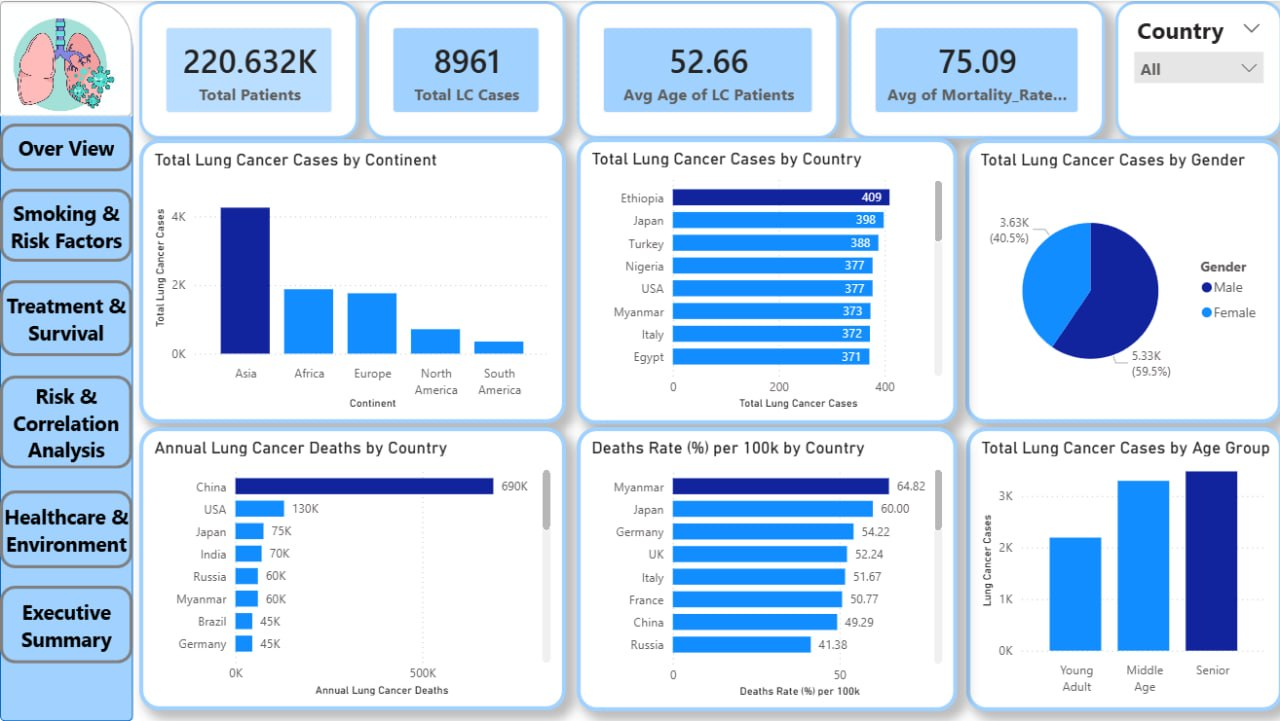

The dashboard page shown, as its layout file describes it:
{"tool":"powerbi","page":{"name":"Over View","canvas":[1280,720],"ordinal":0},"visuals":[{"type":"cardVisual","fields":{"Data":["CountNonNull(lung_cancer_Dataset.ID)"]},"box":[139,0,219,138],"z":0},{"type":"cardVisual","fields":{"Data":["CountNonNull(lung_cancer_Dataset.Lung_Cancer_Diagnosis)"]},"box":[366,0,199,138],"z":1000},{"type":"cardVisual","fields":{"Data":["Avg(lung_cancer_Dataset.Age)"]},"box":[576,0,262,138],"z":2000},{"type":"cardVisual","fields":{"Data":["Avg(lung_cancer_Dataset.Mortality_Rate)"]},"box":[847,0,256,138],"z":3000},{"type":"slicer","fields":{"Values":["lung_cancer_Dataset.Country"]},"box":[1113.3,0,166.7,137.8],"z":4000},{"type":"shape","box":[0,0,132.9,720],"z":5000},{"type":"actionButton","title":"Lung Cancer Dashboard","box":[0,0,131.8,115.5],"z":6000},{"type":"columnChart","fields":{"Y":["Sum(lung_cancer_Dataset.Total Lung Cancer Cases)"],"Category":["lung_cancer_Dataset.Continent"]},"box":[139.4,137.8,425.6,284.4],"z":7000},{"type":"clusteredBarChart","title":"Annual Lung Cancer Deaths by Country","fields":{"Category":["lung_cancer_Dataset.Country"],"Y":["Max(lung_cancer_Dataset.Annual_Lung_Cancer_Deaths)"]},"box":[138.9,425.6,425.6,283.3],"z":8000},{"type":"pieChart","fields":{"Y":["Sum(lung_cancer_Dataset.Total Lung Cancer Cases)"],"Category":["lung_cancer_Dataset.Gender"]},"box":[964.3,137.9,315.7,284.3],"z":9000},{"type":"clusteredBarChart","fields":{"Category":["lung_cancer_Dataset.Country"],"Y":["Sum(lung_cancer_Dataset.Total Lung Cancer Cases)"]},"box":[576.1,136.7,380,285.6],"z":10000},{"type":"columnChart","title":"Total Lung Cancer Cases by Age Group","fields":{"Category":["lung_cancer_Dataset.Age Group"],"Y":["Sum(lung_cancer_Dataset.Total Lung Cancer Cases)"]},"box":[964.4,425.6,315.6,284.4],"z":11000},{"type":"clusteredBarChart","title":"Deaths Rate (%) per 100k by Country","fields":{"Category":["lung_cancer_Dataset.Country"],"Y":["lung_cancer_Dataset.Deaths per 100k"]},"box":[575.6,425.6,380,284.4],"z":12000},{"type":"actionButton","box":[0,122.2,132.2,47.8],"z":13000},{"type":"actionButton","box":[0,188,132,73],"z":14000},{"type":"actionButton","box":[0,279,132,76],"z":15000},{"type":"actionButton","box":[0,374,132,93],"z":16000},{"type":"actionButton","box":[0,488.9,132.2,77.8],"z":17000},{"type":"actionButton","box":[0,585,132.5,77.5],"z":18000}]}

Visuals, with their boxes in screenshot pixels (x1, y1, x2, y2), scaled from the page's 1280x720 canvas onto the 1280x721 screenshot:
cardVisual - CountNonNull(lung_cancer_Dataset.ID): region(139, 0, 358, 138)
cardVisual - CountNonNull(lung_cancer_Dataset.Lung_Cancer_Diagnosis): region(366, 0, 565, 138)
cardVisual - Avg(lung_cancer_Dataset.Age): region(576, 0, 838, 138)
cardVisual - Avg(lung_cancer_Dataset.Mortality_Rate): region(847, 0, 1103, 138)
slicer - lung_cancer_Dataset.Country: region(1113, 0, 1279, 138)
shape: region(0, 0, 133, 720)
"Lung Cancer Dashboard" actionButton: region(0, 0, 132, 116)
columnChart - Sum(lung_cancer_Dataset.Total Lung Cancer Cases) x lung_cancer_Dataset.Continent: region(139, 138, 565, 423)
"Annual Lung Cancer Deaths by Country" clusteredBarChart: region(139, 426, 564, 710)
pieChart - Sum(lung_cancer_Dataset.Total Lung Cancer Cases) x lung_cancer_Dataset.Gender: region(964, 138, 1279, 423)
clusteredBarChart - lung_cancer_Dataset.Country x Sum(lung_cancer_Dataset.Total Lung Cancer Cases): region(576, 137, 956, 423)
"Total Lung Cancer Cases by Age Group" columnChart: region(964, 426, 1279, 711)
"Deaths Rate (%) per 100k by Country" clusteredBarChart: region(576, 426, 956, 711)
actionButton: region(0, 122, 132, 170)
actionButton: region(0, 188, 132, 261)
actionButton: region(0, 279, 132, 355)
actionButton: region(0, 375, 132, 468)
actionButton: region(0, 490, 132, 567)
actionButton: region(0, 586, 132, 663)
